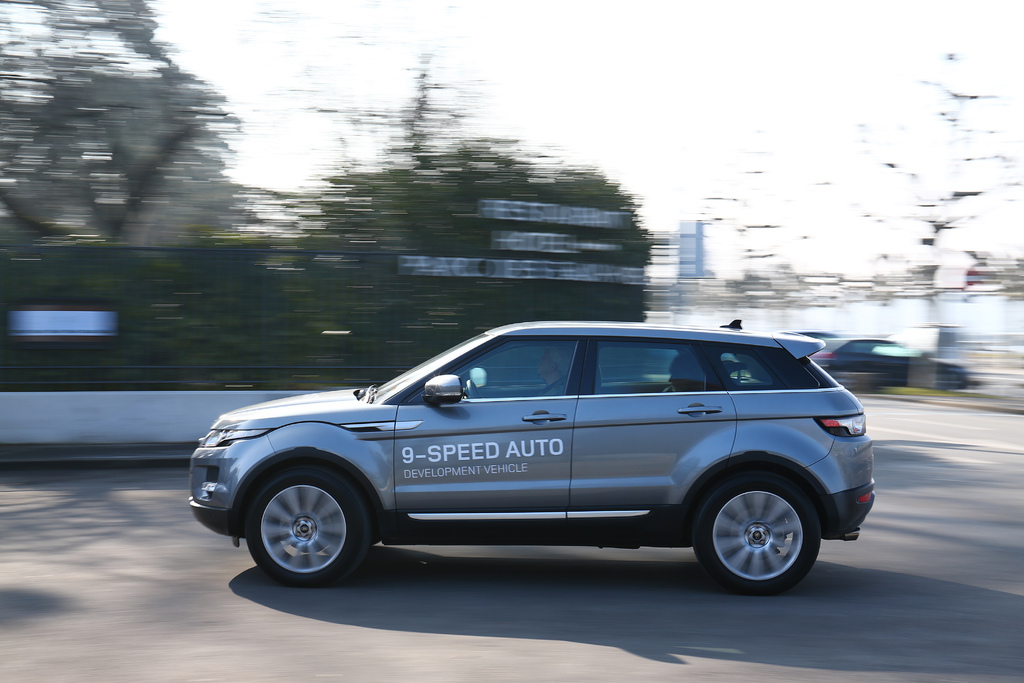Car: (189, 319, 876, 595)
